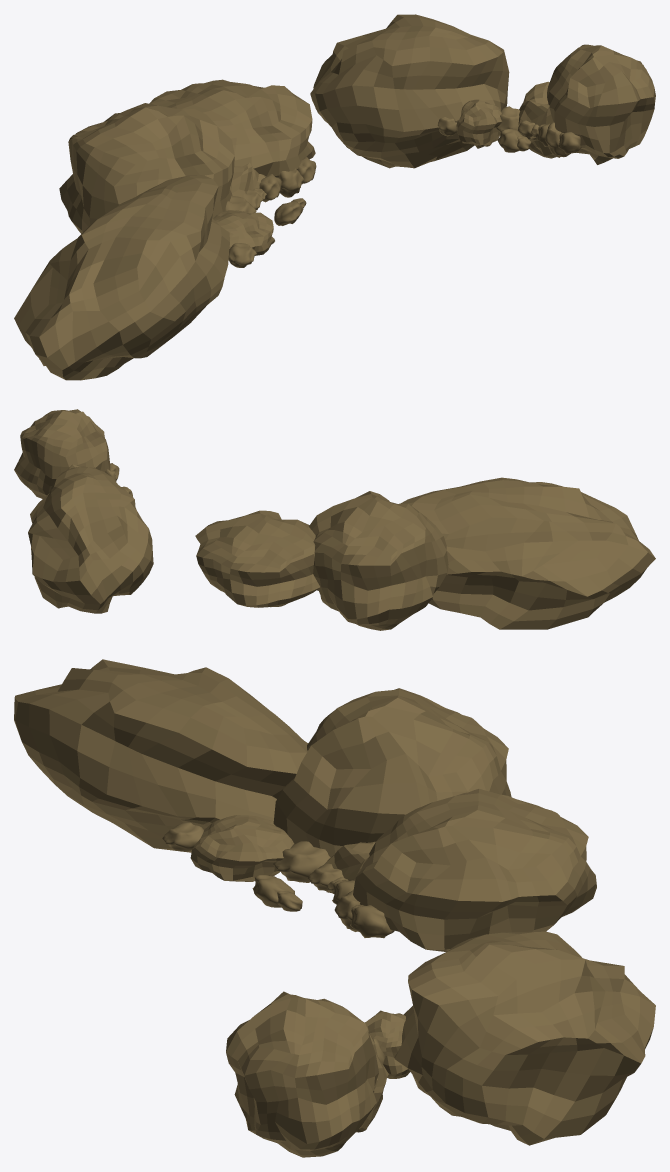
The model's file is settlement_001.glb.
3 views of the same model, one above another, from view 1: azimuth 30°, elevation 25°; view 2: azimuth 150°, elevation 25°; view 3: azimuth 270°, elevation 25° (orthographic). The views are drawn at different scales.
Visible parts, largest first — view 1: Cube.014, Cube.027, Cube.013, Cube.028, Cube.015, Cube.016, Cube.029, Cube.030, Cube.017, Cube.019, Cube.024, Cube.025; view 2: Cube.014, Cube.013, Cube.027, Cube.015, Cube.028; view 3: Cube.027, Cube.014, Cube.015, Cube.013, Cube.028, Cube.016, Cube.029, Cube.018, Cube.017, Cube.023, Cube.019, Cube.025.
Part boxes in pixels (x1,y1,x2,y2): Cube.014: [14, 175, 229, 380]; Cube.027: [310, 14, 509, 168]; Cube.013: [59, 103, 234, 233]; Cube.028: [547, 44, 655, 164]; Cube.015: [149, 79, 315, 177]; Cube.016: [212, 210, 274, 255]; Cube.029: [456, 99, 502, 148]; Cube.030: [518, 81, 570, 158]; Cube.017: [230, 162, 265, 197]; Cube.019: [228, 243, 256, 267]; Cube.024: [277, 168, 303, 197]; Cube.025: [274, 201, 303, 225]; Cube.014: [400, 477, 655, 629]; Cube.013: [309, 491, 448, 630]; Cube.027: [28, 466, 153, 613]; Cube.015: [195, 510, 320, 607]; Cube.028: [14, 409, 110, 498]; Cube.027: [394, 931, 655, 1145]; Cube.014: [14, 659, 307, 852]; Cube.015: [353, 789, 596, 951]; Cube.013: [273, 688, 511, 857]; Cube.028: [226, 991, 378, 1157]; Cube.016: [190, 815, 294, 881]; Cube.029: [364, 1010, 410, 1078]; Cube.018: [273, 841, 330, 882]; Cube.017: [324, 841, 375, 893]; Cube.023: [350, 905, 394, 938]; Cube.019: [162, 822, 203, 851]; Cube.025: [252, 875, 294, 907].
Size of the model in its own units: 16.94 by 3.91 by 10.03.
